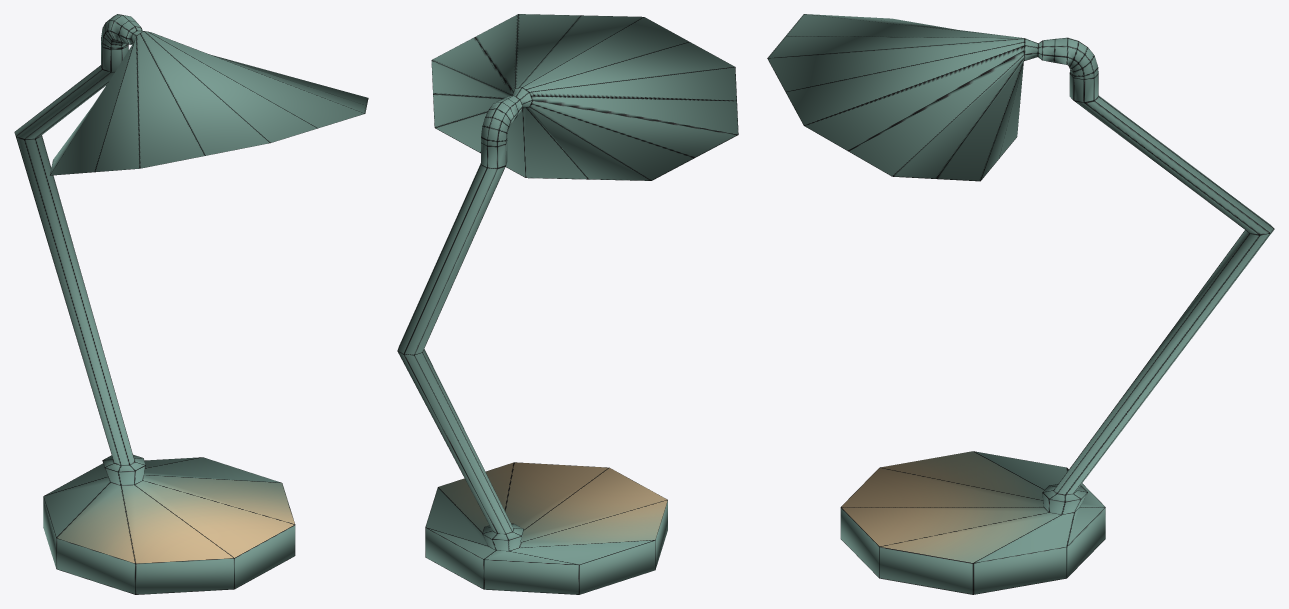
Rendered from desklamp.fbx.
3 renders of one model, left to right at view 1: azimuth 30°, elevation 25°; view 2: azimuth 150°, elevation 25°; view 3: azimuth 270°, elevation 25°, orthographic. The views are drawn at different scales.
Parts seen in each view (by area): view 1: Cylinder; view 2: Cylinder; view 3: Cylinder.
Boxes of the visible parts, <box> form: Cylinder: <box>14,14,368,594</box>; Cylinder: <box>397,14,738,594</box>; Cylinder: <box>767,14,1274,594</box>.
Size of the model in its own units: 221 by 327 by 300.
